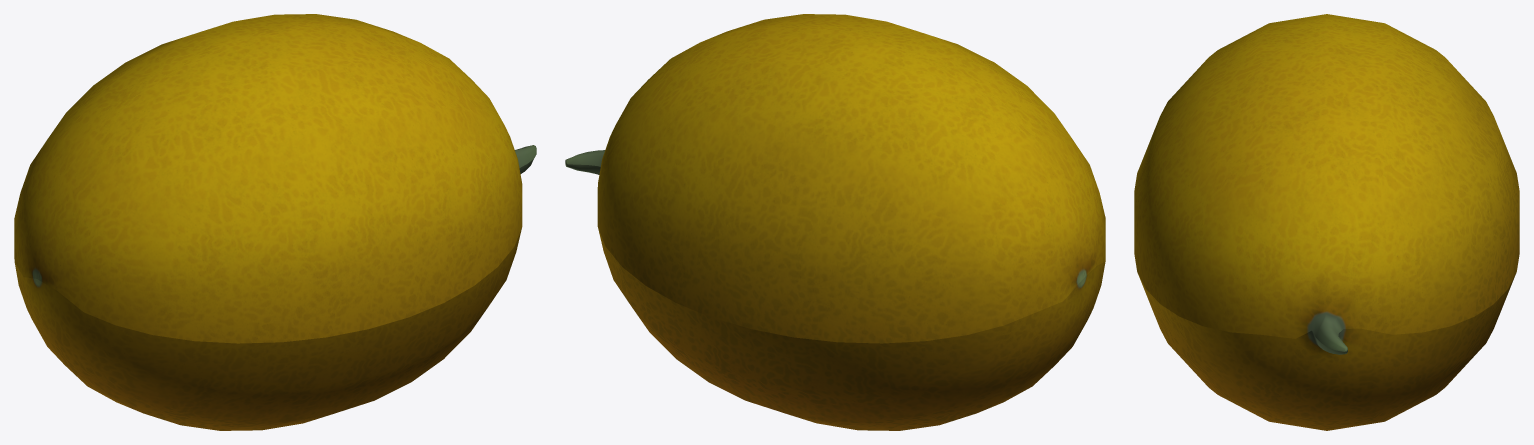
Rendered from SM_Farm_Melon_01.fbx.
The picture shows the model from 3 angles, left to right: view 1: azimuth 30°, elevation 25°; view 2: azimuth 150°, elevation 25°; view 3: azimuth 270°, elevation 25°; orthographic projection. The views are drawn at different scales.
Visible parts, largest first — view 1: SM_Farm_Melon_01_LOD0; view 2: SM_Farm_Melon_01_LOD0; view 3: SM_Farm_Melon_01_LOD0.
Part boxes in pixels (x1,y1,x2,y2): SM_Farm_Melon_01_LOD0: [14, 14, 536, 430]; SM_Farm_Melon_01_LOD0: [565, 14, 1105, 430]; SM_Farm_Melon_01_LOD0: [1134, 14, 1519, 430].
Size of the model in its own units: 44.08 by 30.86 by 30.39.
